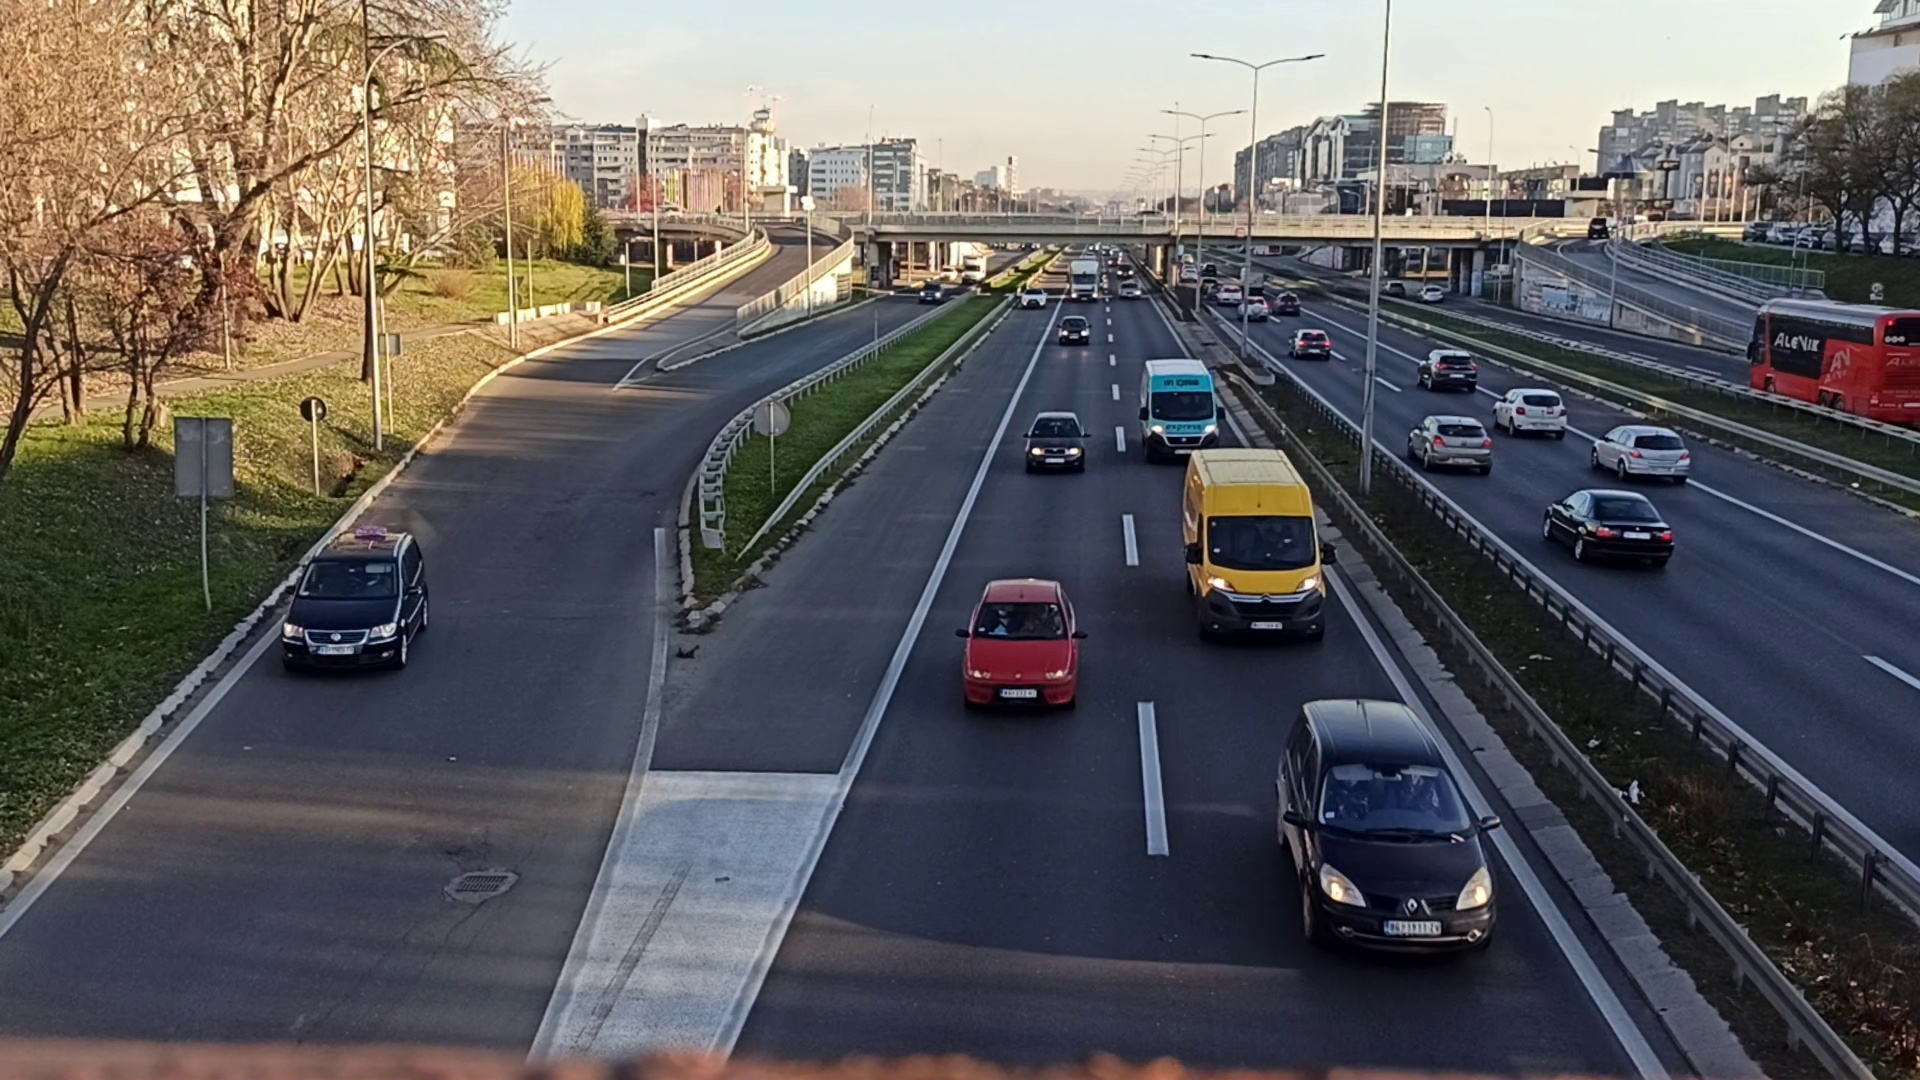bus: (1750, 298, 1920, 429)
car: (1274, 699, 1495, 969), (280, 529, 429, 673), (959, 571, 1079, 707), (1547, 489, 1673, 570), (1592, 419, 1687, 484), (1406, 411, 1490, 473), (1493, 386, 1568, 435), (1025, 409, 1083, 469), (1414, 344, 1476, 392), (1290, 328, 1331, 357), (1058, 313, 1089, 345)
van: (1178, 450, 1328, 644), (1138, 357, 1218, 459)
